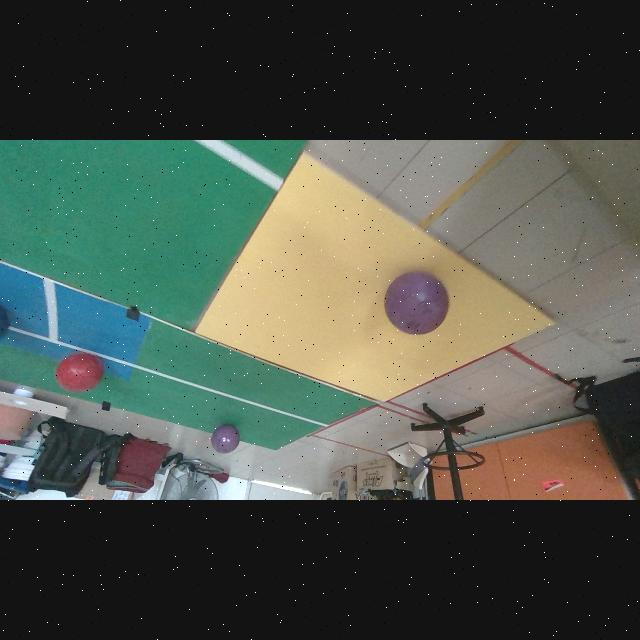P: (384, 272, 449, 334), (211, 425, 240, 454)
R: (55, 353, 104, 391)
